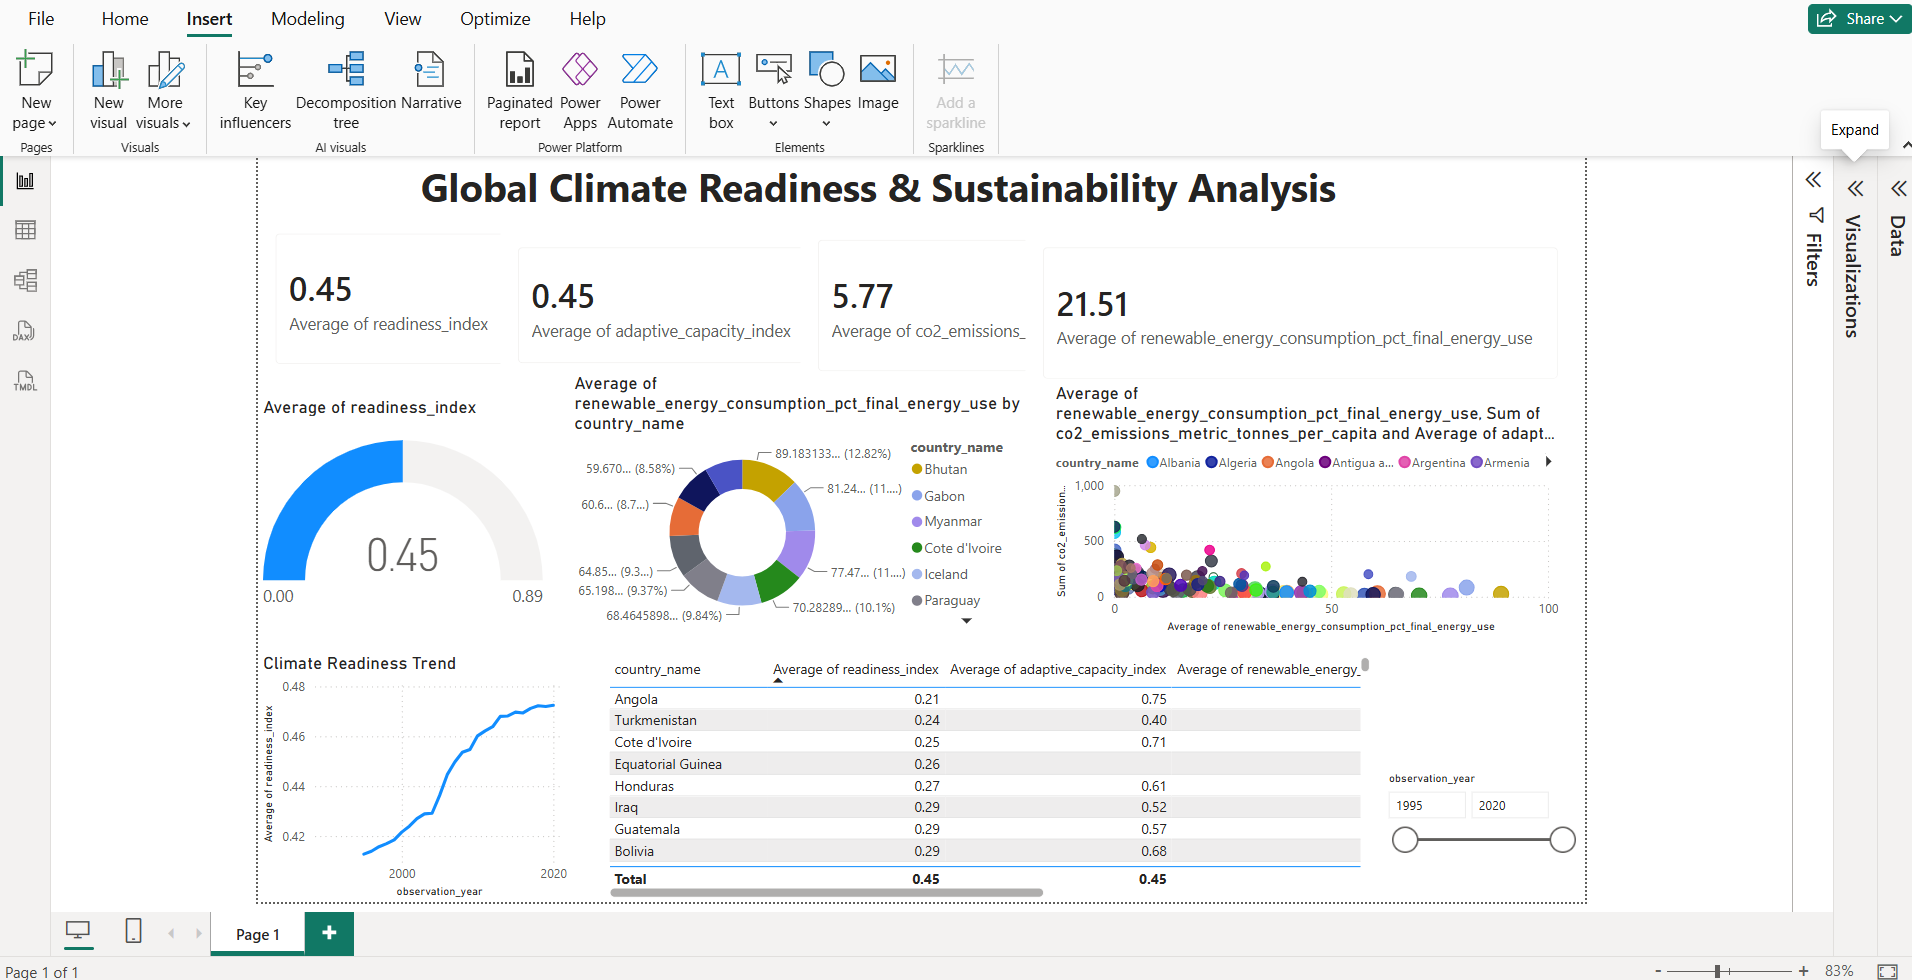

This screenshot's page, from the dashboard's own definition file:
{"tool":"powerbi","page":{"name":"Page 1","canvas":[1280,720],"ordinal":0},"visuals":[{"type":"cardVisual","fields":{"Data":["Avg(energy_economics_curated.readiness_index)"]},"box":[0,57.6,279.9,160.5],"z":0},{"type":"cardVisual","fields":{"Data":["Avg(energy_economics_curated.adaptive_capacity_index)"]},"box":[234.6,71.4,317,146.8],"z":1},{"type":"cardVisual","fields":{"Data":["Avg(energy_economics_curated.co2_emissions_metric_tonnes_per_capita)"]},"box":[524.2,64.5,433.6,161.9],"z":2},{"type":"cardVisual","fields":{"Data":["Avg(energy_economics_curated.renewable_energy_consumption_pct_final_energy_use)"]},"box":[741,71.4,531,161.9],"z":3},{"type":"gauge","fields":{"Y":["Avg(energy_economics_curated.readiness_index)"]},"box":[0,231.9,279.9,233.3],"z":4},{"type":"donutChart","fields":{"Category":["energy_economics_curated.country_name"],"Y":["Avg(energy_economics_curated.renewable_energy_consumption_pct_final_energy_use)"]},"box":[300.5,208.6,440.5,252.5],"z":5},{"type":"lineChart","title":"Climate Readiness Trend","fields":{"Y":["Avg(energy_economics_curated.readiness_index)"],"Category":["energy_economics_curated.observation_year"]},"box":[0,478.9,303.3,241.5],"z":6},{"type":"scatterChart","fields":{"X":["Avg(energy_economics_curated.renewable_energy_consumption_pct_final_energy_use)"],"Y":["Sum(energy_economics_curated.co2_emissions_metric_tonnes_per_capita)"],"Size":["Avg(energy_economics_curated.adaptive_capacity_index)"],"Series":["energy_economics_curated.country_name"]},"box":[764.3,218.2,495.4,247],"z":7},{"type":"tableEx","fields":{"Values":["energy_economics_curated.country_name","Avg(energy_economics_curated.readiness_index)","Avg(energy_economics_curated.adaptive_capacity_index)","Avg(energy_economics_curated.renewable_energy_consumption_pct_final_energy_use)","Avg(energy_economics_curated.co2_emissions_metric_tonnes_per_capita)"]},"box":[333.4,478.9,745.1,241.5],"z":8},{"type":"slicer","fields":{"Values":["energy_economics_curated.observation_year"]},"box":[1078.6,588.7,201.7,131.7],"z":9},{"type":"textbox","box":[152.3,0,912.5,72.7],"z":10}]}

Visuals, with their boxes on the page's 1280x720 design canvas (x1, y1, x2, y2). These are canvas units, not pixel positions in the 1914x980 screenshot, which may show the page scaled, cropped or inside an application window:
cardVisual - Avg(energy_economics_curated.readiness_index): (left=0, top=58, right=280, bottom=218)
cardVisual - Avg(energy_economics_curated.adaptive_capacity_index): (left=235, top=71, right=552, bottom=218)
cardVisual - Avg(energy_economics_curated.co2_emissions_metric_tonnes_per_capita): (left=524, top=64, right=958, bottom=226)
cardVisual - Avg(energy_economics_curated.renewable_energy_consumption_pct_final_energy_use): (left=741, top=71, right=1272, bottom=233)
gauge - Avg(energy_economics_curated.readiness_index): (left=0, top=232, right=280, bottom=465)
donutChart - energy_economics_curated.country_name x Avg(energy_economics_curated.renewable_energy_consumption_pct_final_energy_use): (left=300, top=209, right=741, bottom=461)
"Climate Readiness Trend" lineChart: (left=0, top=479, right=303, bottom=720)
scatterChart - Avg(energy_economics_curated.renewable_energy_consumption_pct_final_energy_use) x Sum(energy_economics_curated.co2_emissions_metric_tonnes_per_capita): (left=764, top=218, right=1260, bottom=465)
tableEx - energy_economics_curated.country_name x Avg(energy_economics_curated.readiness_index): (left=333, top=479, right=1078, bottom=720)
slicer - energy_economics_curated.observation_year: (left=1079, top=589, right=1280, bottom=720)
textbox: (left=152, top=0, right=1065, bottom=73)
